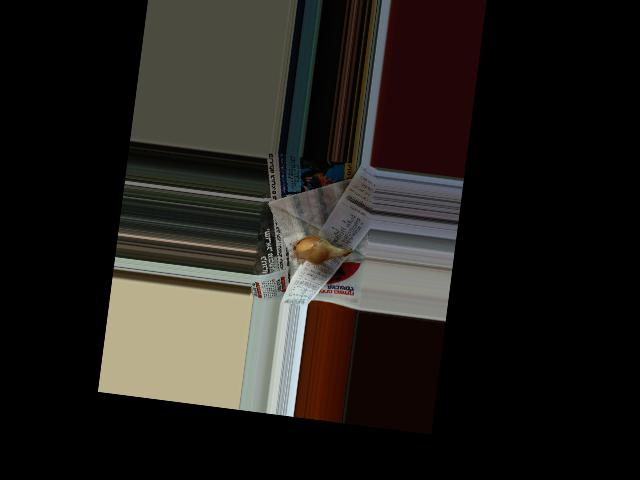onion: (289, 229, 338, 266)
